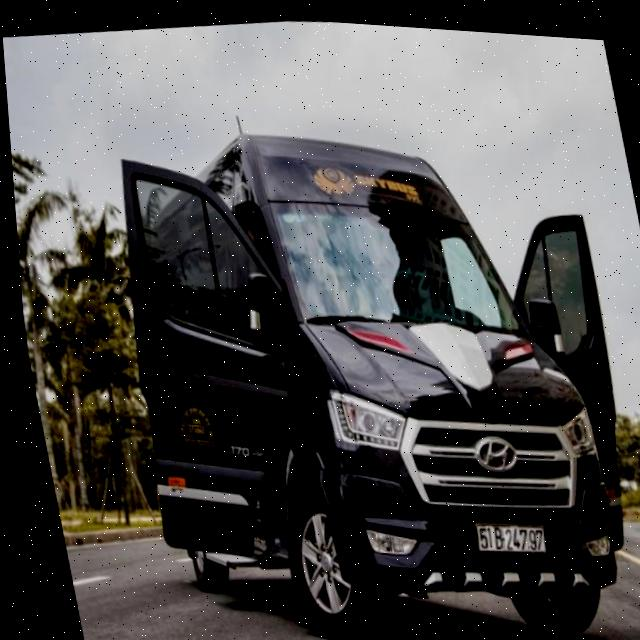car: (65, 11, 640, 640)
plate: (465, 510, 553, 567)
